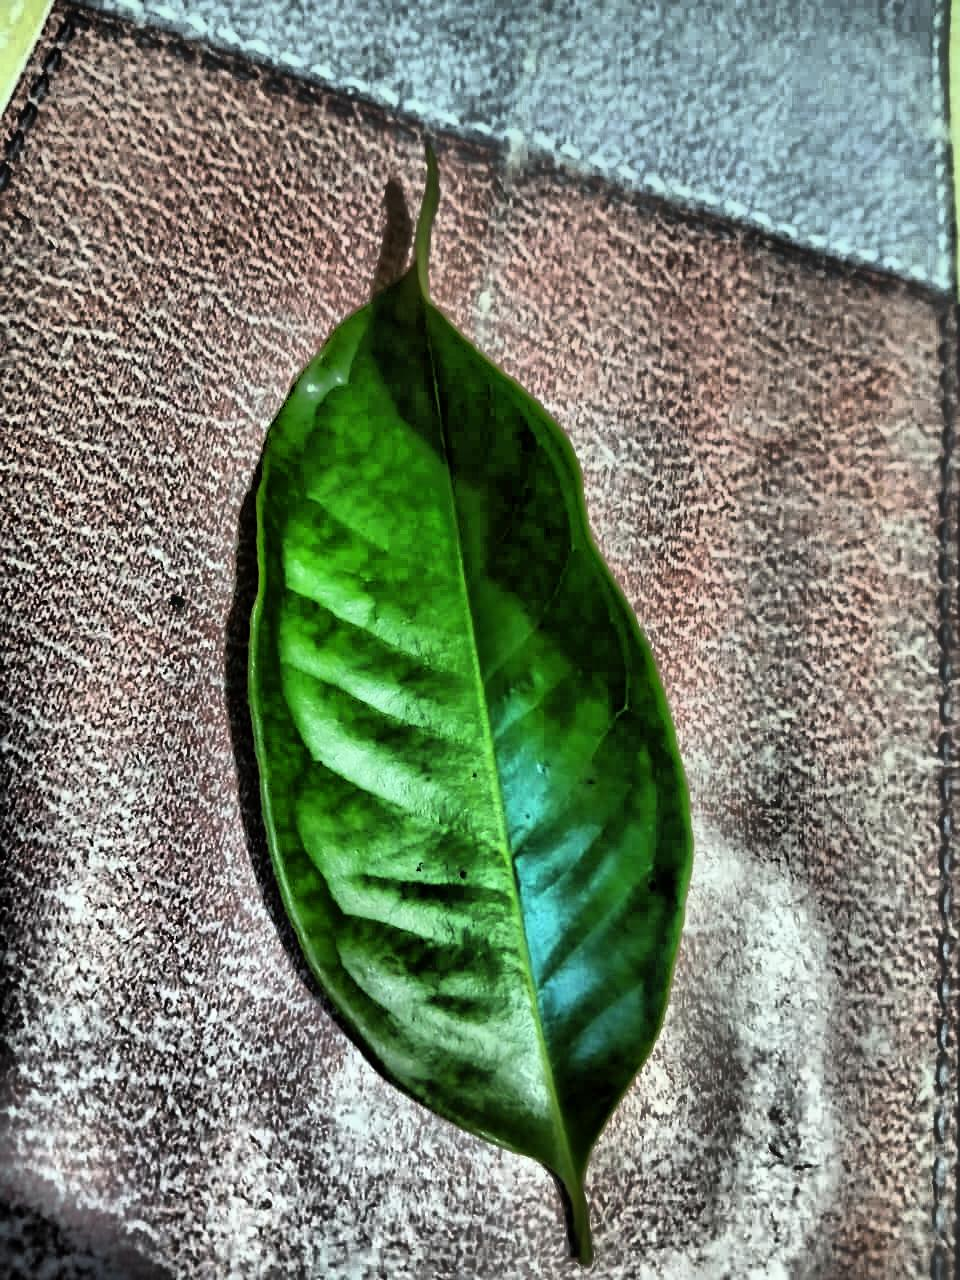daun salam: (249, 152, 691, 1263)
